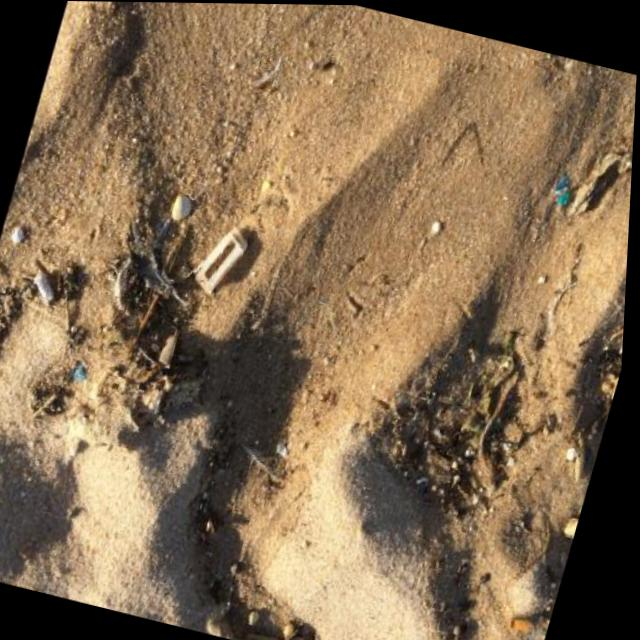plastic: (189, 220, 251, 300)
